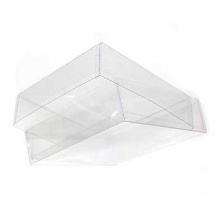plastic_box: (6, 37, 212, 176)
